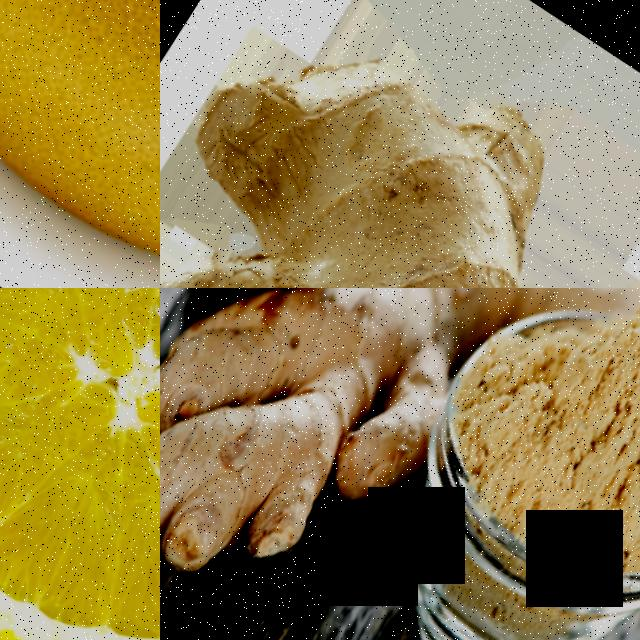ginger: (160, 0, 640, 288), (160, 288, 504, 640), (160, 288, 495, 374)
lemon: (0, 288, 160, 640), (0, 0, 160, 288)
